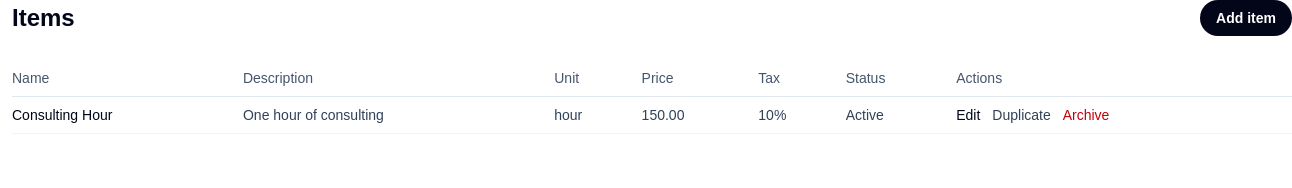
Test: ItemListView › duplicates an item and adds the copy to the list
Expected: the text "Consulting Hour" is shown, x1=12 y1=96 x2=243 y2=134
Click the button "Duplicate".
click(1022, 115)  # box x1=992 y1=105 x2=1051 y2=125
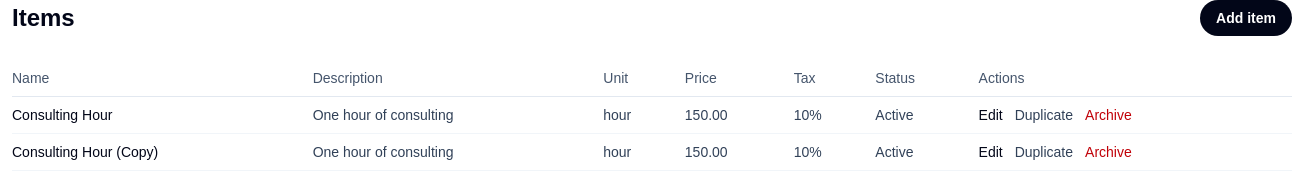
Expected: the text "Consulting Hour (Copy)" is shown, x1=12 y1=134 x2=313 y2=170
